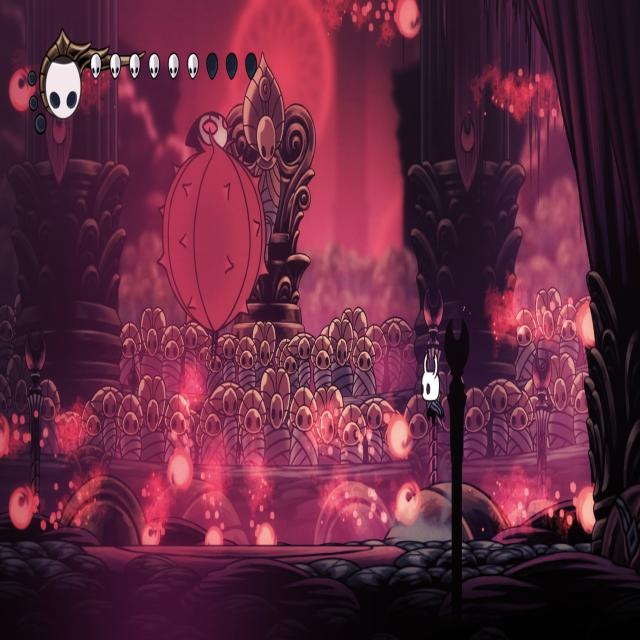Player: (416, 341, 446, 429)
Pufferfish: (154, 104, 268, 361)
Tiny Fireballs: (168, 447, 194, 491), (395, 482, 420, 527), (9, 486, 34, 530), (576, 300, 598, 348), (386, 415, 409, 460), (9, 70, 32, 114), (397, 0, 422, 40), (576, 486, 597, 532), (257, 523, 277, 546), (206, 527, 223, 546)
